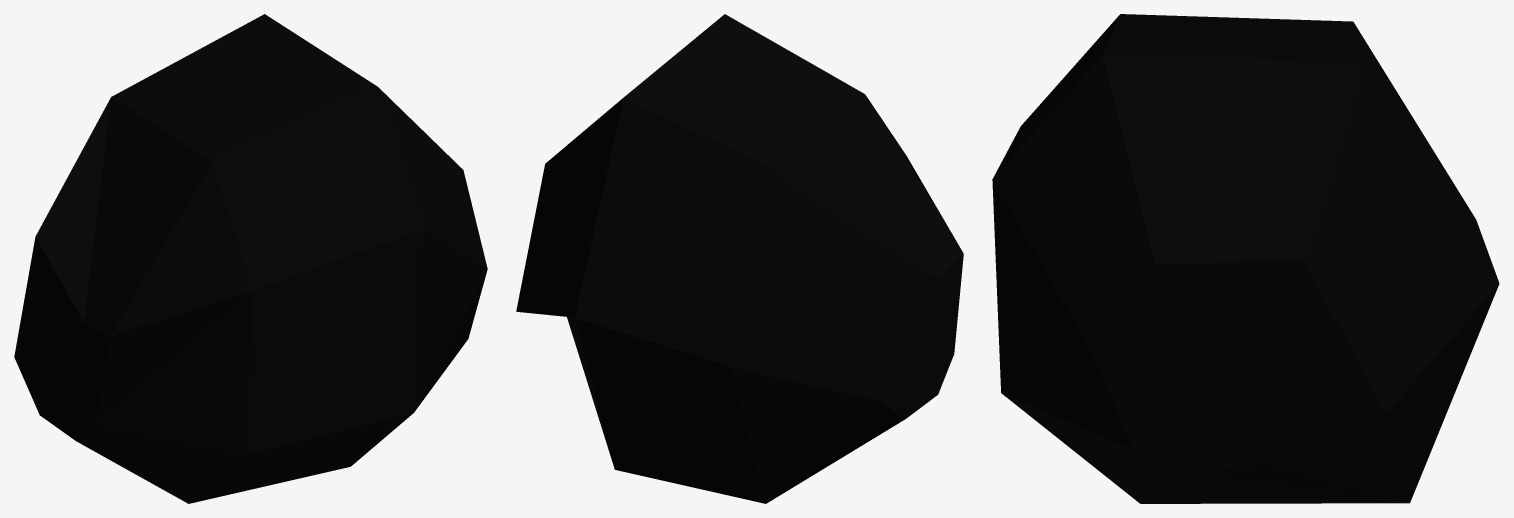
The model's file is shot.dae.
3 renders of one model, left to right at view 1: azimuth 30°, elevation 25°; view 2: azimuth 150°, elevation 25°; view 3: azimuth 270°, elevation 25°, orthographic. The views are drawn at different scales.
Parts seen in each view (by area): view 1: S_shot; view 2: S_shot; view 3: S_shot.
Part boxes in pixels (<box>): S_shot: <box>14,14,487,503</box>; S_shot: <box>516,14,963,503</box>; S_shot: <box>992,14,1499,503</box>.
Size of the model in its own units: 0.0111 by 0.0111 by 0.0111.
Materials: 1 (1 with a texture image).
